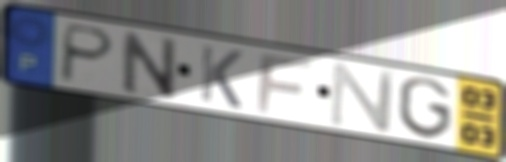F: (253, 52, 316, 116)
G: (395, 74, 455, 141)
K: (196, 41, 246, 112)
N: (328, 60, 400, 134), (119, 27, 180, 102)
P: (56, 21, 119, 86)
